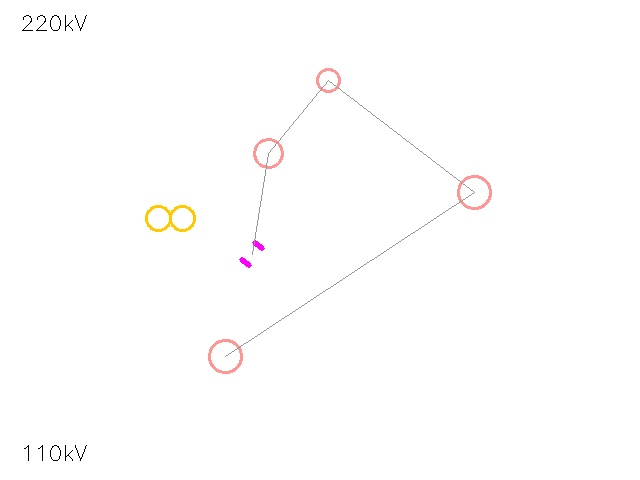capacitor: (234, 236, 270, 272)
current_transformer: (441, 159, 507, 225)
feeder_terminal: (192, 323, 258, 389)
reactor: (306, 58, 350, 102)
transformer_2w: (140, 188, 200, 248)
voltage_transformer: (240, 125, 296, 181)
